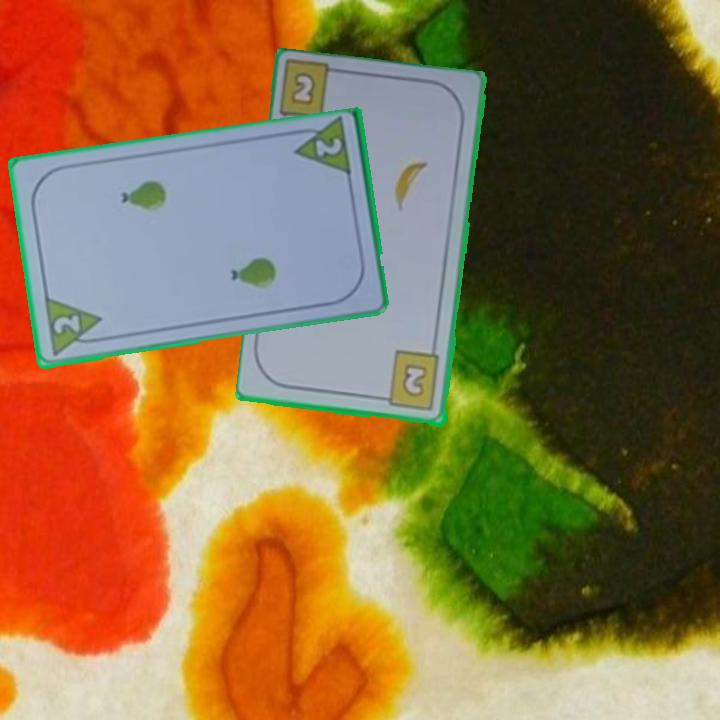2b: (376, 348, 443, 414), (287, 68, 319, 109)
2p: (49, 311, 83, 337), (311, 134, 345, 160)
